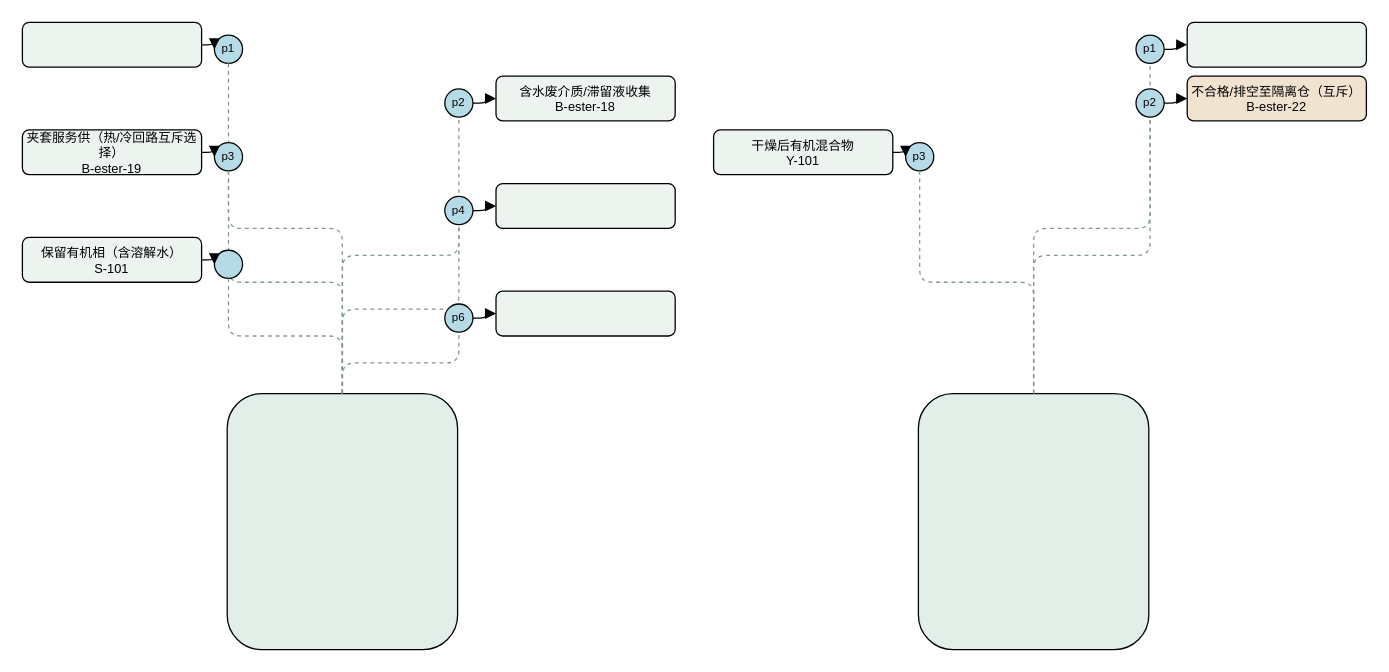
Some shapes in this 1389 by 672 pixel diagram are drawn without their labels. The shapes that lost their labels are listed below. From the top down, each one's box as (x1, y1, x2, y2) in pixels, then its label:
(21, 21, 202, 67): 合格干燥介质 B-ester-17
(1186, 21, 1366, 67): 合格整股成品至 OC 用途 B-ester-21
(495, 182, 675, 228): 夹套服务回 B-ester-20
(213, 249, 243, 278): p5
(495, 290, 675, 336): 干燥后有机混合物 T-102
(226, 392, 458, 650): Y-101 · 干燥介质床 旧线吸附容量模型；不是滤纸把溶解水滤掉。
(917, 392, 1149, 650): T-102 · 成品暂存罐 质量 UI 内联；不另造一台仅为点按钮的分析多方块。
